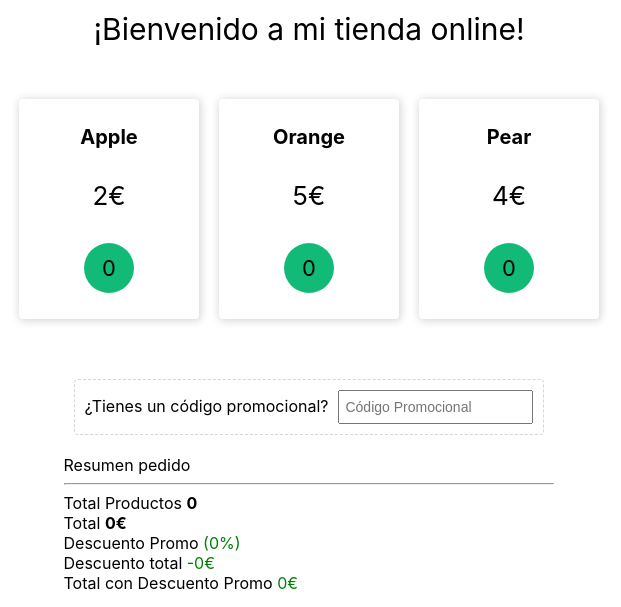
Store › should update the item quantity display when the item is clicked
Click the text "0" below "Apple": [109, 268] box [84, 243, 134, 293]
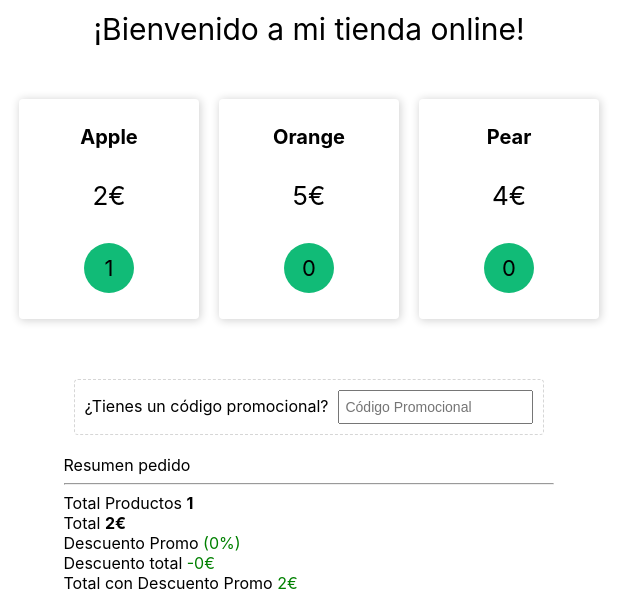
Click the text "0" below "Apple": [109, 268] box [84, 243, 134, 293]
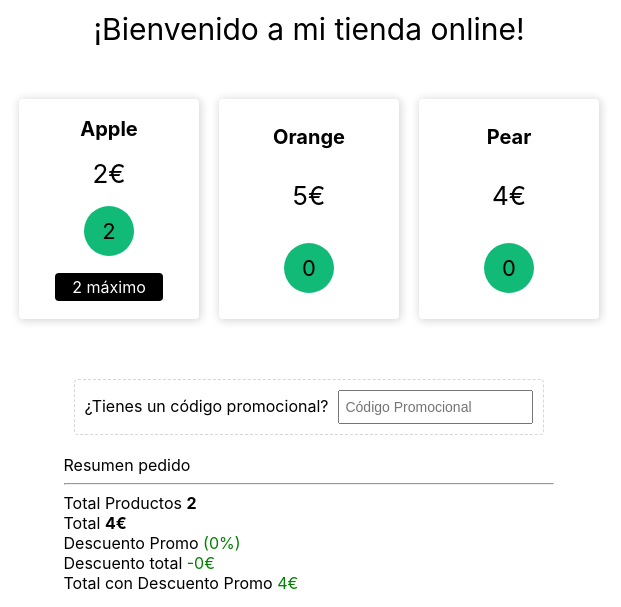
Expected: the text "0" below "Apple" reads "2", [102, 218, 116, 244]
